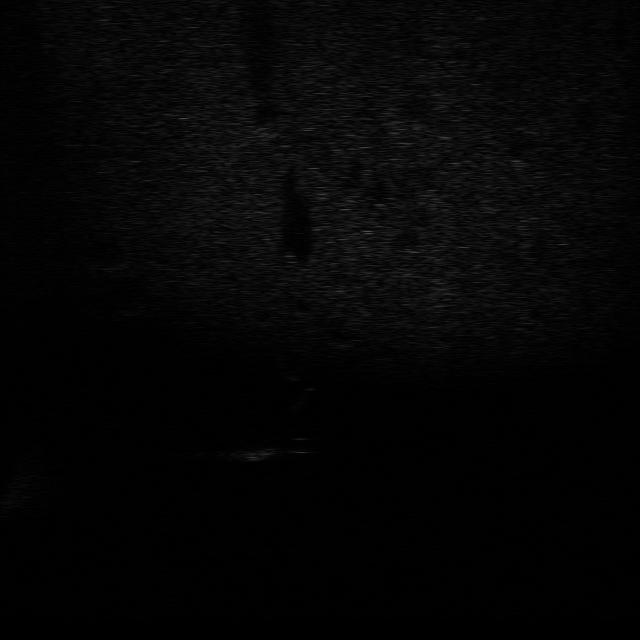ball: (282, 436, 318, 457)
human body: (268, 348, 318, 412)
square cage: (222, 439, 282, 464)
